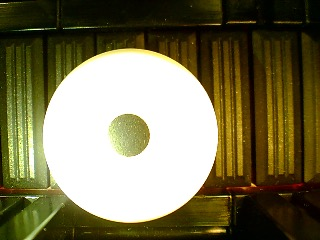BOHO: (42, 48, 218, 224)
